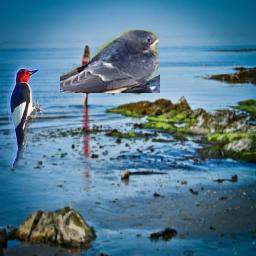Swallow: (60, 29, 160, 93)
Woodpecker: (3, 61, 43, 168)
